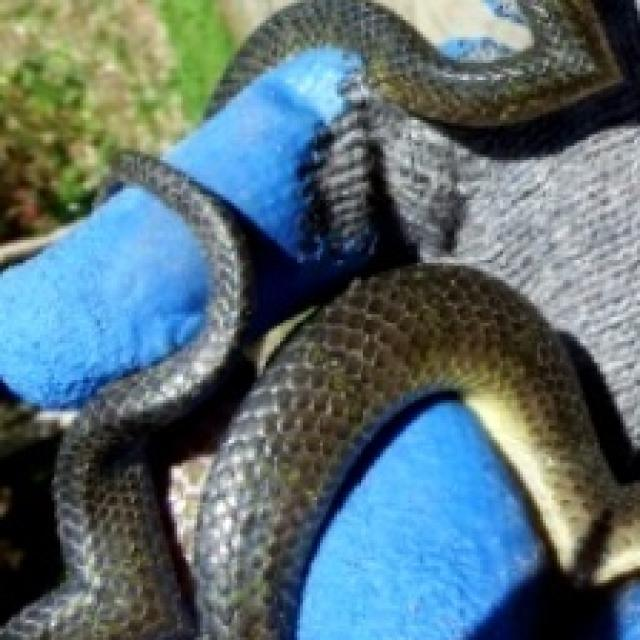gunthers philippine shrub snake: (0, 155, 640, 639), (209, 1, 640, 156)
